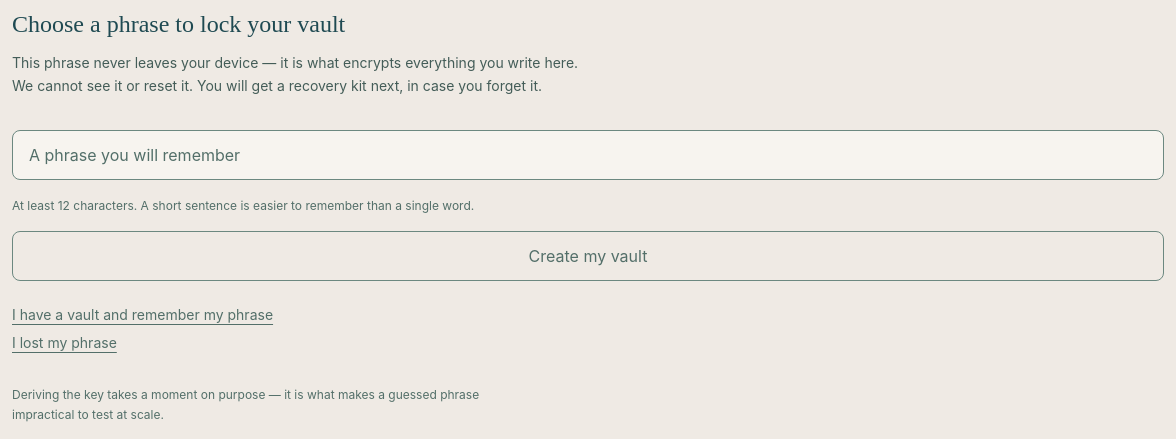
Scenario: the passphrase field › accepts one long enough
In the password field with placeholder "A phrase you will remember": (588, 154) [12,130,1164,180], type "the quiet hour before sleep"
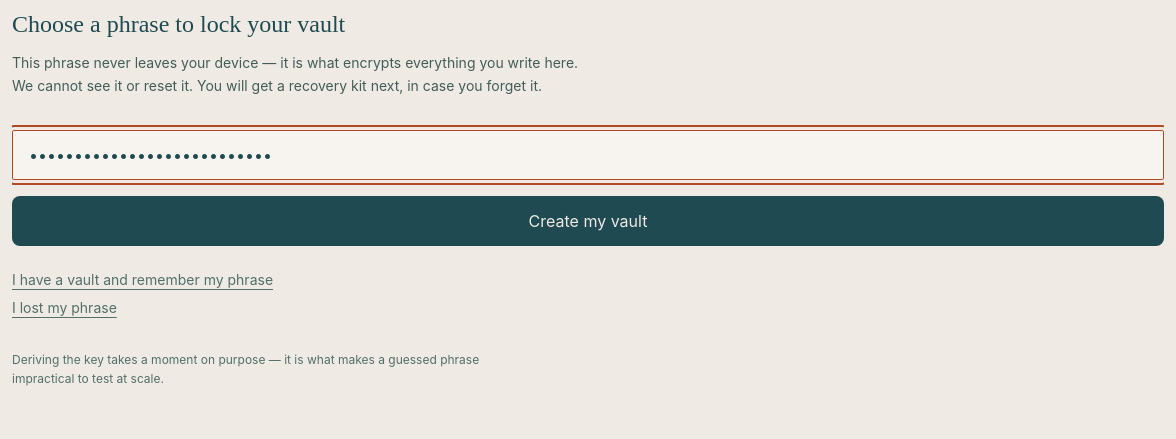
expect the button "Create my vault" is enabled: met, box [12,196,1164,246]
